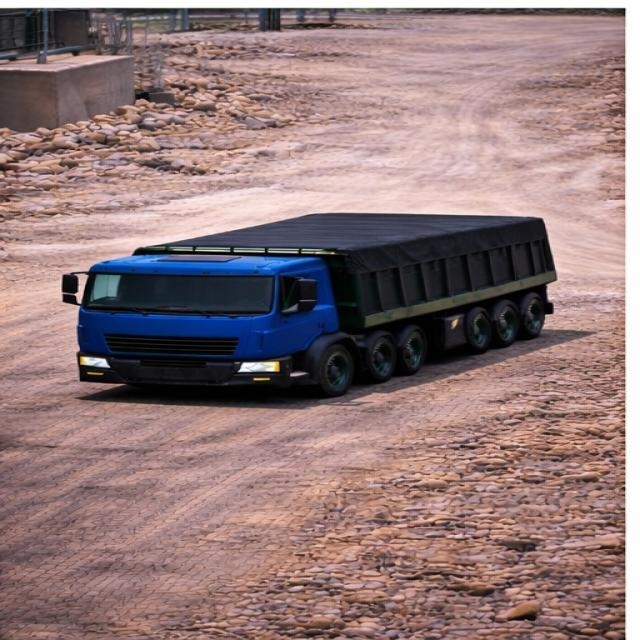Box: (141, 212, 541, 248)
Truck: (62, 195, 564, 392)
